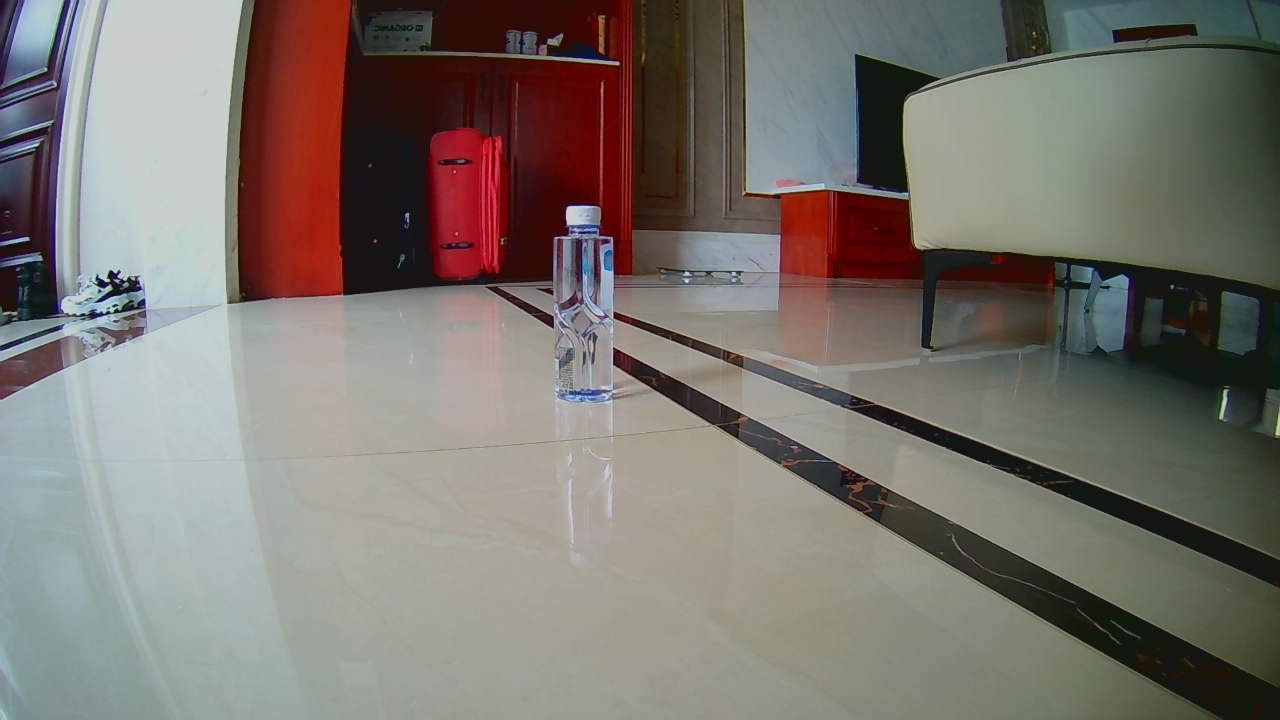water: (551, 205, 615, 405)
